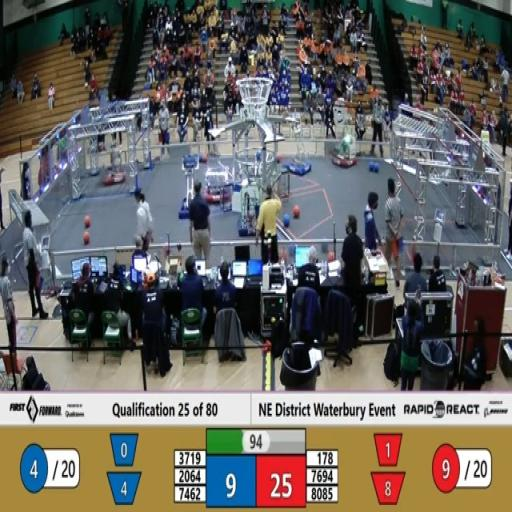robot: (171, 147, 202, 222), (200, 154, 234, 211), (330, 124, 360, 176), (100, 140, 128, 192), (284, 131, 312, 183), (190, 119, 212, 168)
